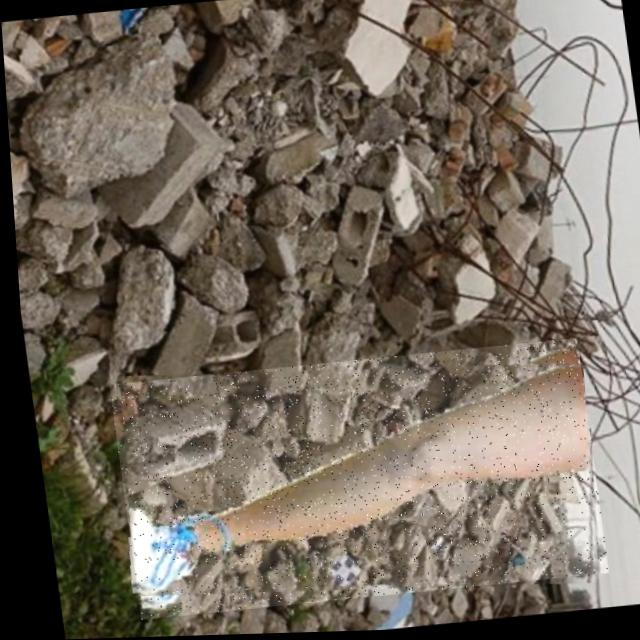Person in Rubble: (99, 341, 600, 620)
